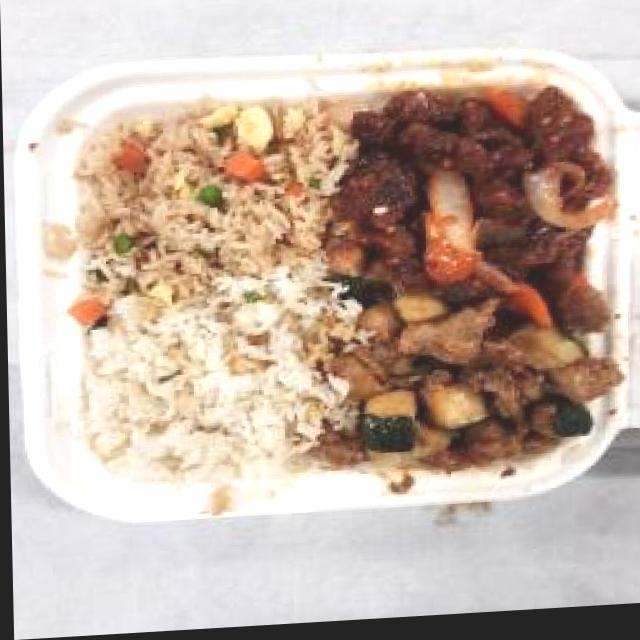Beijing Beef: (319, 84, 621, 321)
Fried Rice: (80, 97, 339, 332)
Kung Pao Chicken: (325, 276, 624, 483)
White Steamed Rice: (81, 315, 337, 495)
